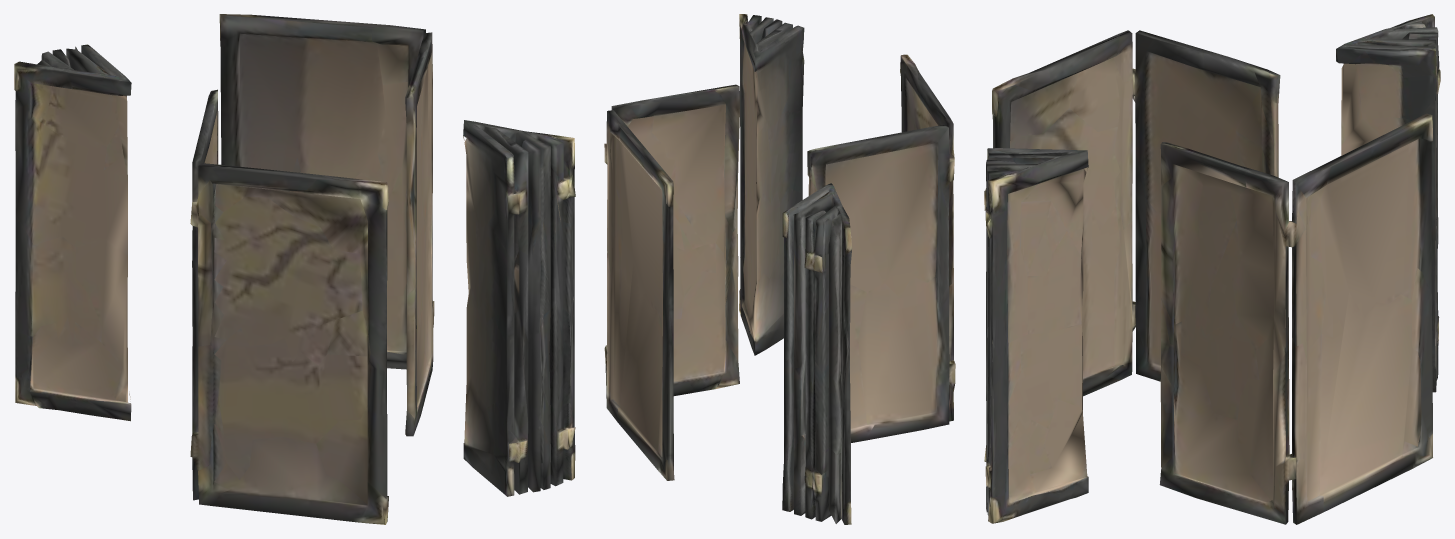
Rendered from au_furn_divider_imperial.glb.
3 renders of one model, left to right at view 1: azimuth 30°, elevation 25°; view 2: azimuth 150°, elevation 25°; view 3: azimuth 270°, elevation 25°, orthographic. The views are drawn at different scales.
Visible parts, largest first — view 1: tripo_node_78f7c94b-a534-4f63-ba69-d8a3ad544935; view 2: tripo_node_78f7c94b-a534-4f63-ba69-d8a3ad544935; view 3: tripo_node_78f7c94b-a534-4f63-ba69-d8a3ad544935.
Boxes of the visible parts, x1,y1,x2,y2 form: tripo_node_78f7c94b-a534-4f63-ba69-d8a3ad544935: [14, 14, 575, 524]; tripo_node_78f7c94b-a534-4f63-ba69-d8a3ad544935: [604, 14, 955, 524]; tripo_node_78f7c94b-a534-4f63-ba69-d8a3ad544935: [984, 14, 1440, 524].
Bounding box in the file's own units: 0.8761 × 0.8176 × 0.9818.
Materials: 1 (1 with a texture image).
